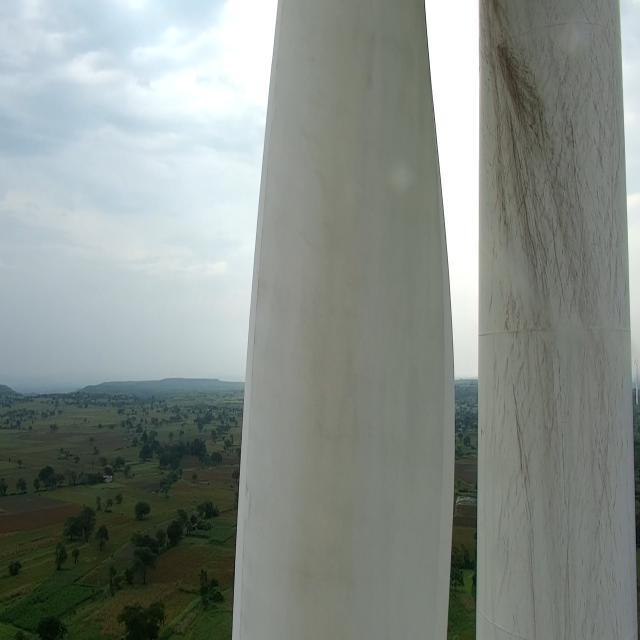Dirt: (474, 0, 640, 640)
